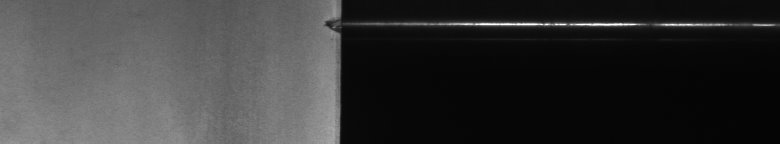hb: (320, 13, 328, 35)
